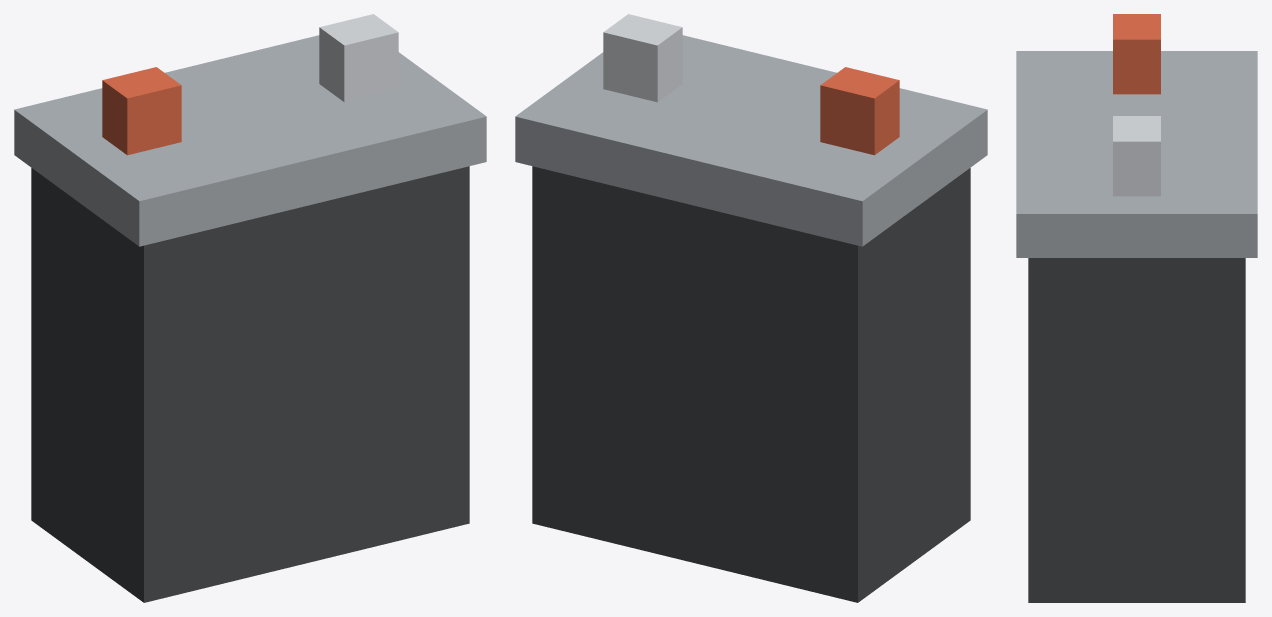
Rendered from motorcycle-racing-and-street-bikes-motorcycle-battery-2ede5f95__15469.glb.
3 views of the same model, side by side, from view 1: azimuth 30°, elevation 25°; view 2: azimuth 150°, elevation 25°; view 3: azimuth 270°, elevation 25° (orthographic). The views are drawn at different scales.
Visible parts, largest first — view 1: motorcycle-battery; view 2: motorcycle-battery; view 3: motorcycle-battery.
Part boxes in pixels (<box>): motorcycle-battery: <box>14,14,486,602</box>; motorcycle-battery: <box>515,14,987,602</box>; motorcycle-battery: <box>1016,14,1257,602</box>.
Bounding box in the file's own units: 0.16 × 0.205 × 0.1.
